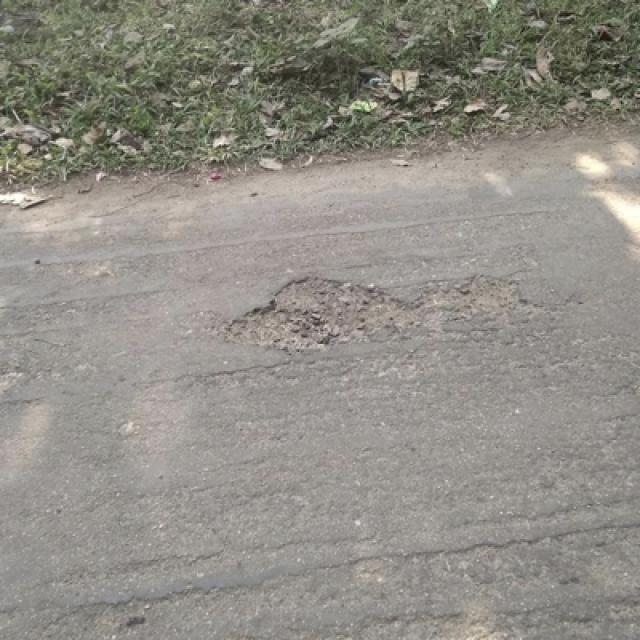jalan_berlubang: (217, 253, 555, 375)
